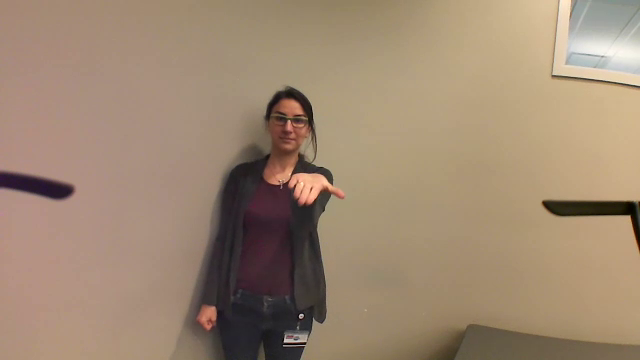land: (284, 169, 349, 215)
